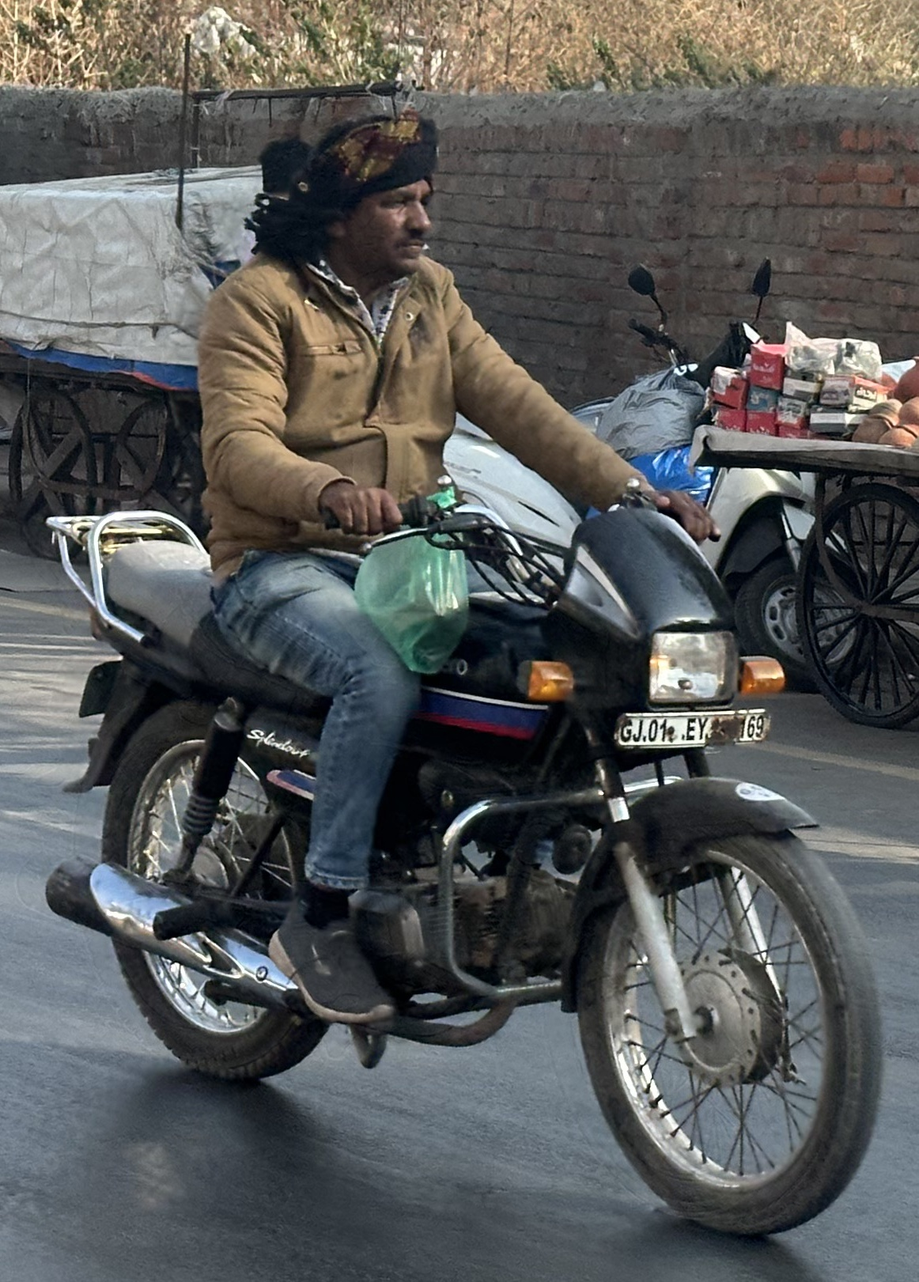BikeWithRider: (35, 104, 906, 1244)
NoHelmet: (293, 107, 466, 279)
